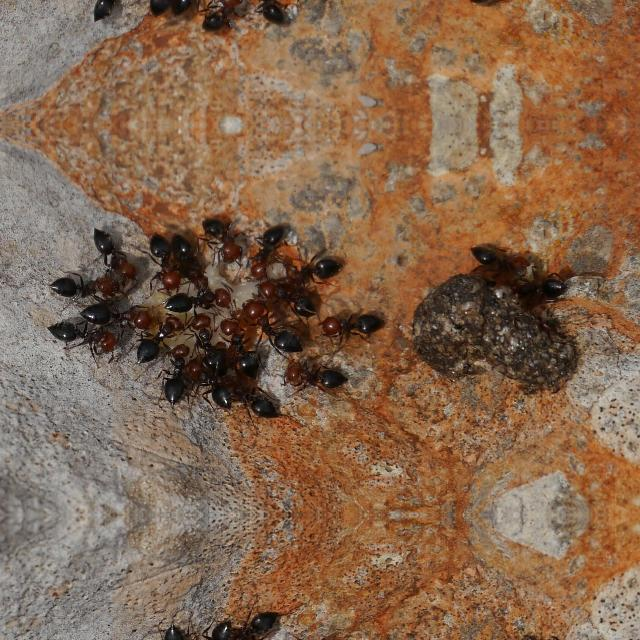Crematogaster: (46, 319, 122, 365), (241, 306, 305, 356), (218, 367, 278, 419), (40, 260, 116, 300), (150, 343, 194, 412), (249, 210, 291, 282), (278, 248, 340, 296), (76, 293, 150, 333), (214, 312, 262, 368), (128, 318, 186, 364), (276, 356, 344, 394), (185, 313, 227, 371), (505, 268, 569, 306), (88, 226, 136, 276), (253, 280, 317, 316), (160, 282, 226, 316), (184, 361, 230, 407), (322, 312, 388, 344), (467, 240, 523, 276), (198, 210, 244, 252), (218, 609, 277, 640), (173, 233, 207, 285), (198, 0, 244, 38), (148, 233, 178, 291), (249, 0, 291, 37), (149, 615, 194, 640), (87, 0, 136, 22), (184, 621, 229, 640), (173, 0, 207, 15), (148, 0, 178, 15), (467, 0, 523, 8)
